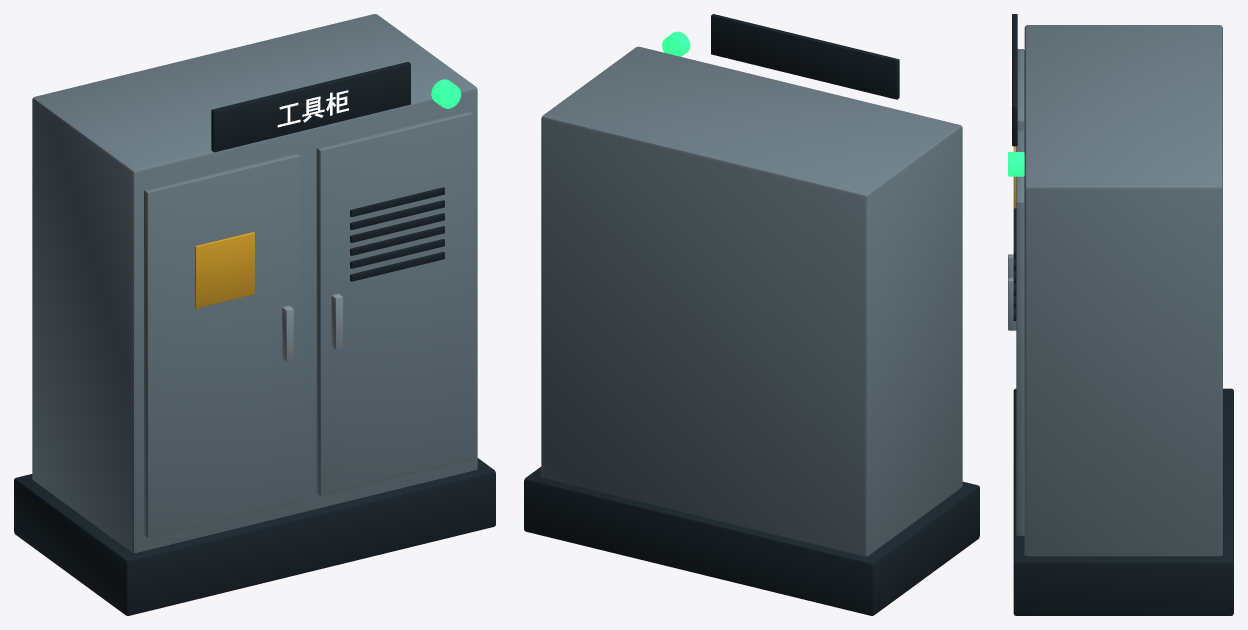
Rendered from tool_cabinet_mo.glb.
The picture shows the model from 3 angles, left to right: view 1: azimuth 30°, elevation 25°; view 2: azimuth 150°, elevation 25°; view 3: azimuth 270°, elevation 25°; orthographic projection. The views are drawn at different scales.
Visible parts, largest first — view 1: Asset_tool_cabinet; view 2: Asset_tool_cabinet; view 3: Asset_tool_cabinet.
Part boxes in pixels (bbox=[...]): Asset_tool_cabinet: bbox=[14, 14, 495, 615]; Asset_tool_cabinet: bbox=[524, 14, 979, 615]; Asset_tool_cabinet: bbox=[1008, 14, 1233, 615].
Bounding box in the file's own units: 1.5 × 1.88 × 0.8201.
